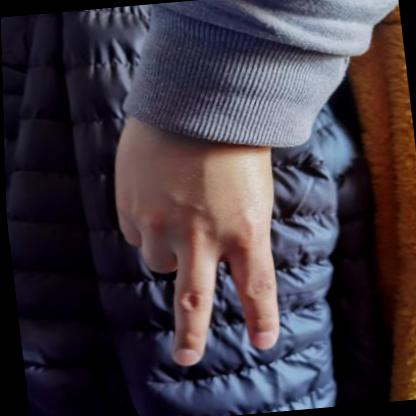N: (75, 84, 334, 380)
